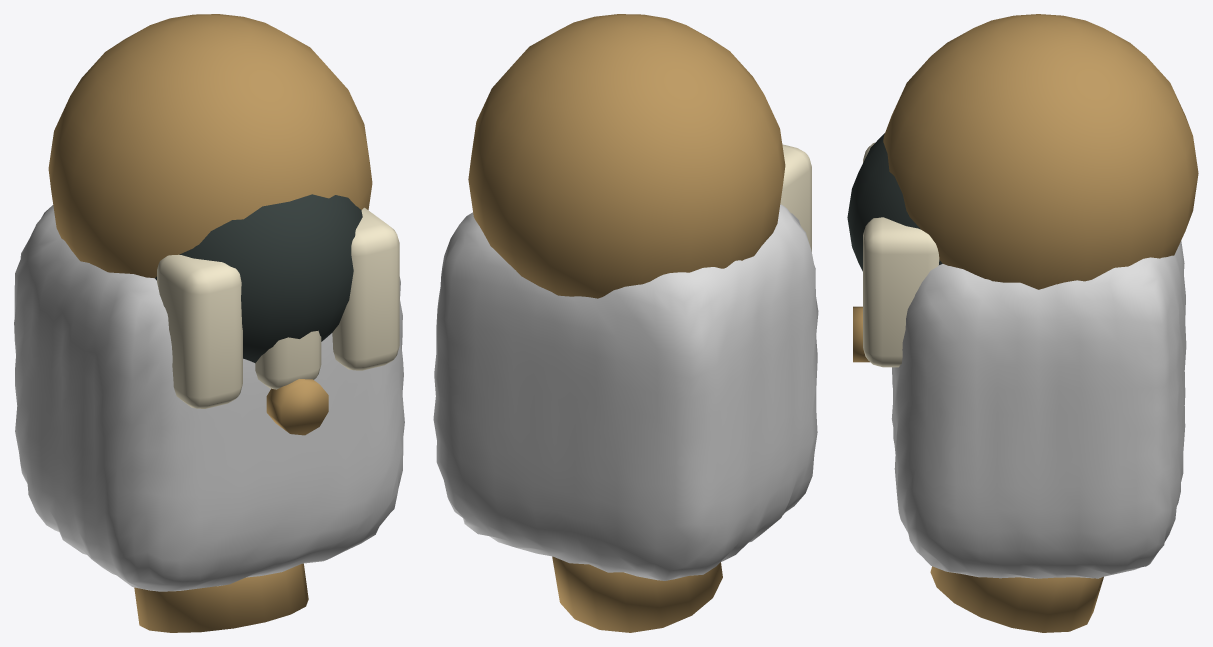
The model's file is deadeye-arm-1.glb.
3 renders of one model, left to right at view 1: azimuth 30°, elevation 25°; view 2: azimuth 150°, elevation 25°; view 3: azimuth 270°, elevation 25°, orthographic. The views are drawn at different scales.
Parts seen in each view (by area): view 1: lower_clay, upper_brass, hand_ivory, hand_mechanism, lower_brass; view 2: lower_clay, upper_brass, lower_brass, hand_ivory; view 3: lower_clay, upper_brass, lower_brass, hand_ivory, hand_mechanism.
Part boxes in pixels (x1,y1,x2,y2): lower_clay: (14,205,404,591); upper_brass: (48,14,372,278); hand_ivory: (157,207,399,408); hand_mechanism: (155,194,362,363); lower_brass: (134,379,328,632); lower_clay: (433,204,818,580); upper_brass: (468,14,785,298); lower_brass: (552,556,722,632); hand_ivory: (780,144,811,251); lower_clay: (891,241,1186,578); upper_brass: (883,14,1198,289); lower_brass: (853,306,1103,632); hand_ivory: (863,142,939,367); hand_mechanism: (847,133,942,271).
Bounding box in the file's own units: 0.3879 × 0.725 × 0.395.
